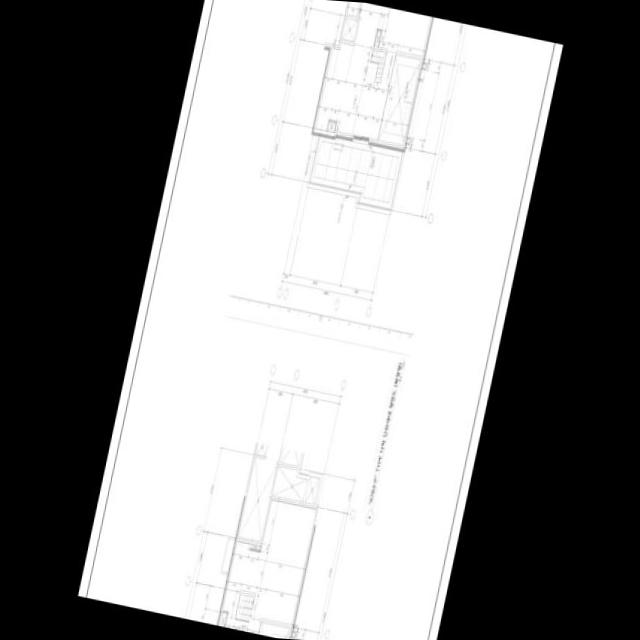background: (77, 0, 563, 640)
space_balconi: (314, 140, 398, 202)
space_other: (222, 498, 316, 634), (315, 41, 396, 139), (355, 2, 430, 56), (378, 54, 421, 144), (341, 17, 357, 40), (219, 612, 227, 627), (374, 30, 381, 46), (327, 121, 335, 132), (250, 543, 260, 549)
space_staircase: (235, 593, 254, 621), (370, 49, 386, 82)
